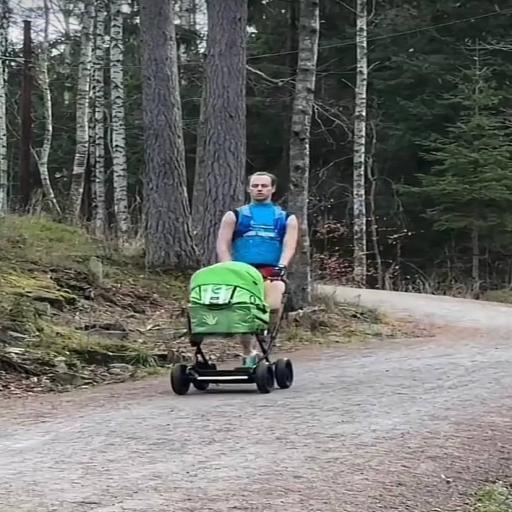crosswalk: (216, 172, 298, 366)
people: (170, 262, 294, 395)
